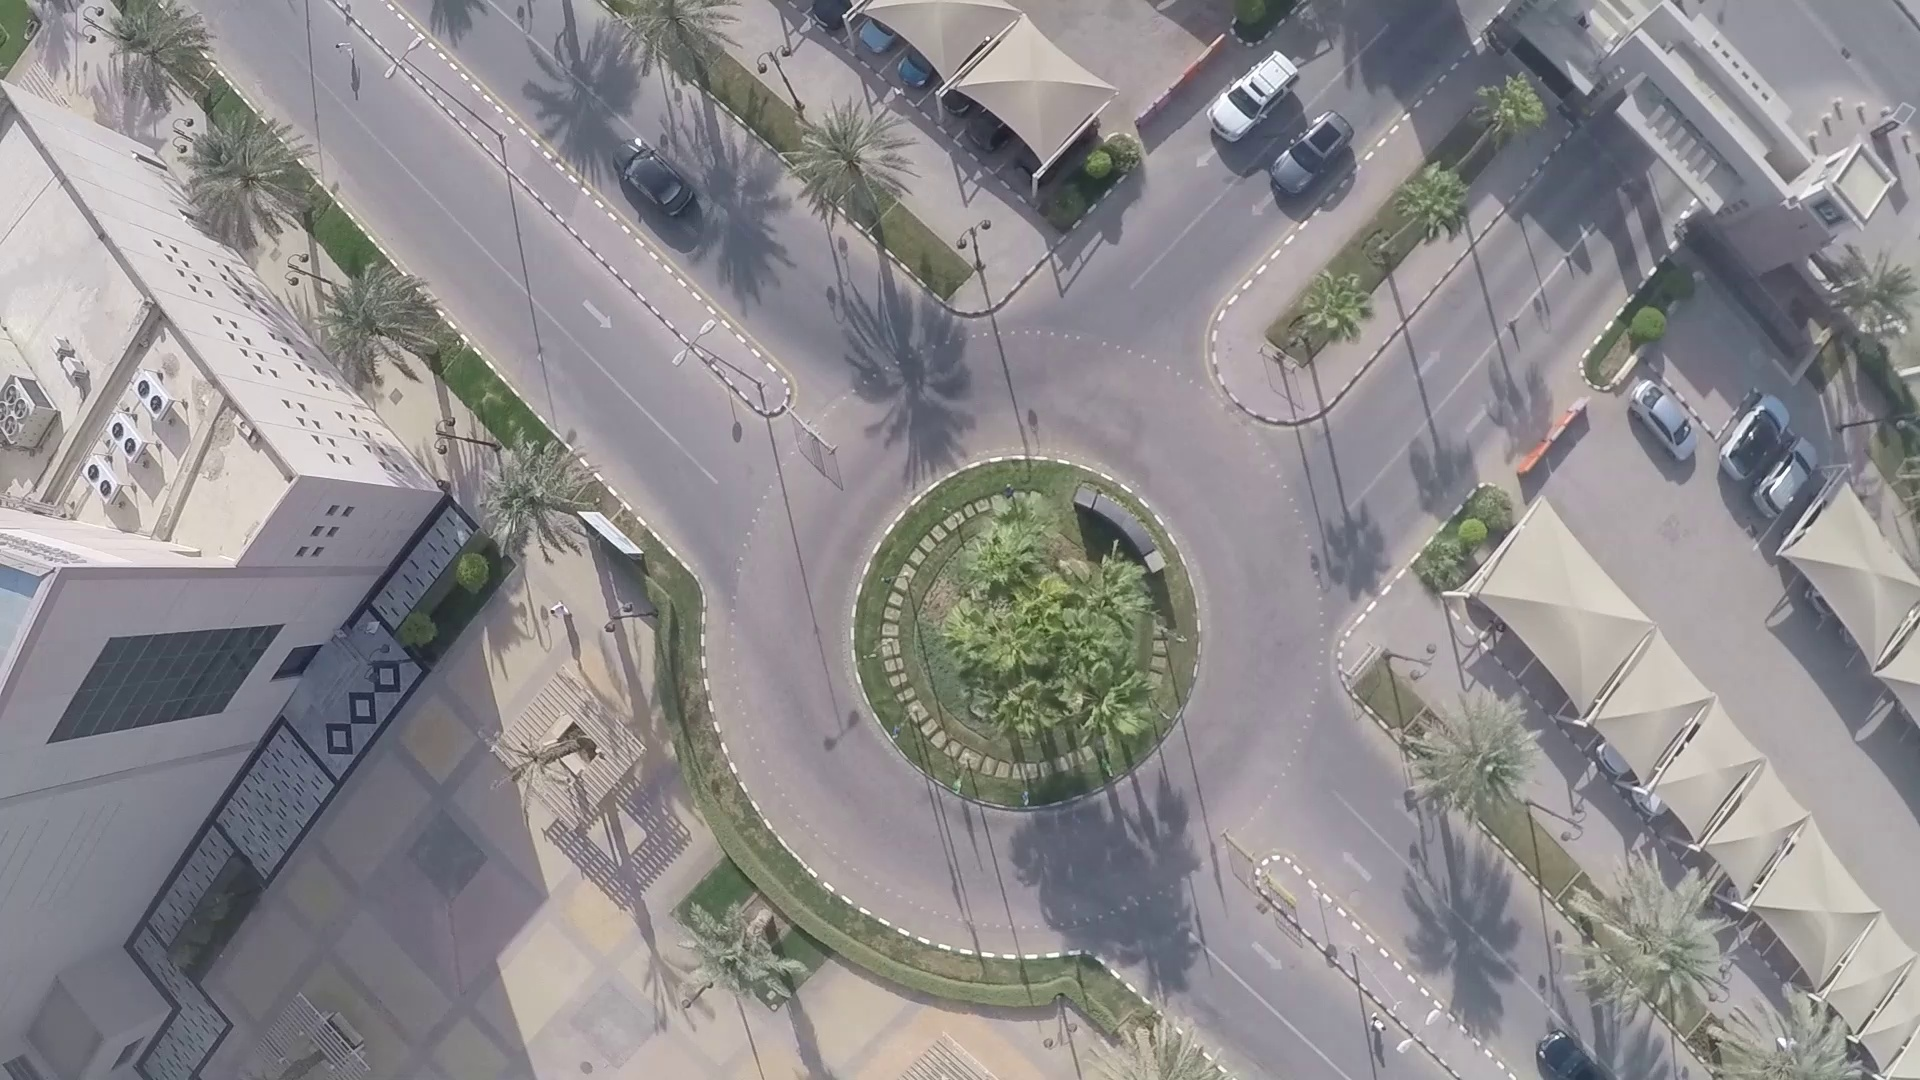car: (1273, 112, 1373, 206), (1208, 51, 1295, 145)
